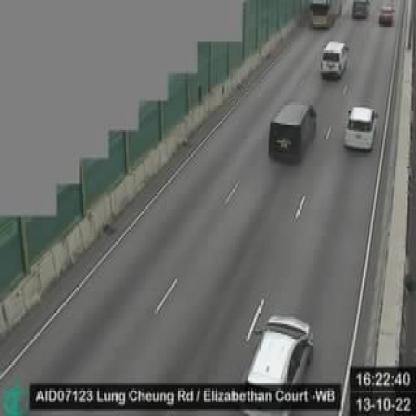Bus: (309, 0, 343, 29)
Car: (232, 308, 310, 404), (266, 100, 319, 162), (340, 104, 378, 154), (320, 38, 350, 80), (379, 3, 396, 24), (351, 0, 368, 19)
